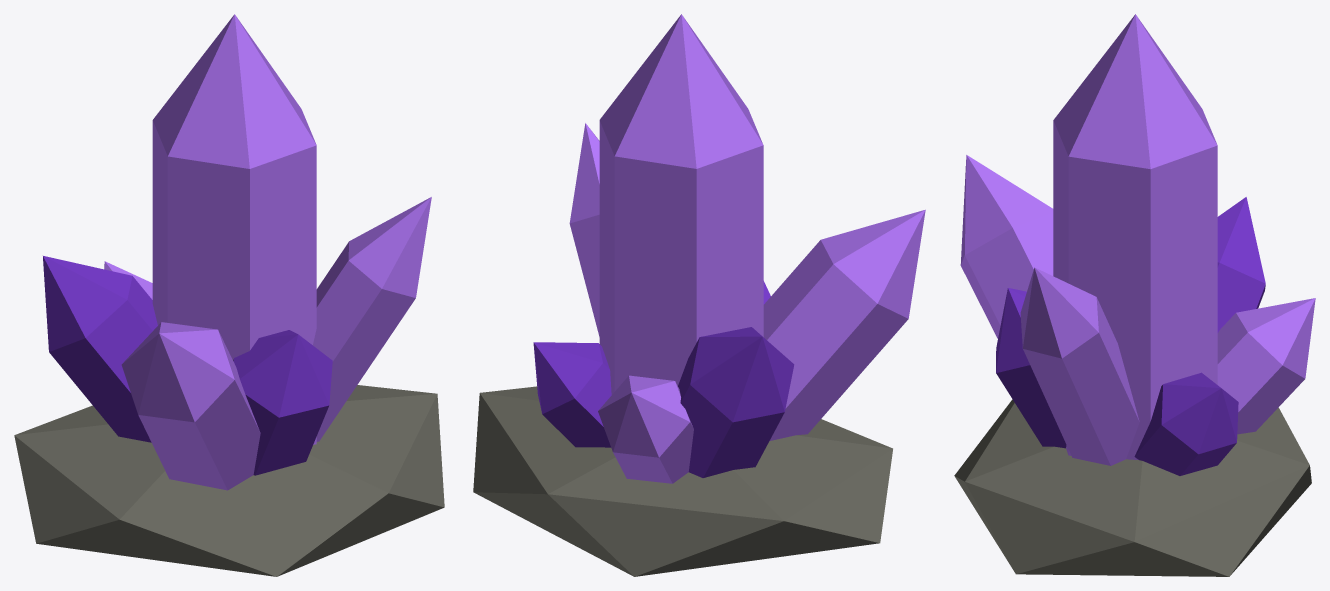
Rendered from AmethystCrystals.fbx.
The picture shows the model from 3 angles, left to right: view 1: azimuth 30°, elevation 25°; view 2: azimuth 150°, elevation 25°; view 3: azimuth 270°, elevation 25°; orthographic projection.
Visible parts, largest first — view 1: AmethystCrystals; view 2: AmethystCrystals; view 3: AmethystCrystals.
Part boxes in pixels (x1,y1,x2,y2): AmethystCrystals: (14,14,444,576); AmethystCrystals: (473,14,925,576); AmethystCrystals: (954,14,1315,576).
Bounding box in the file's own units: 2.65 × 3.31 × 2.07.
Materials: 1 (1 with a texture image).
